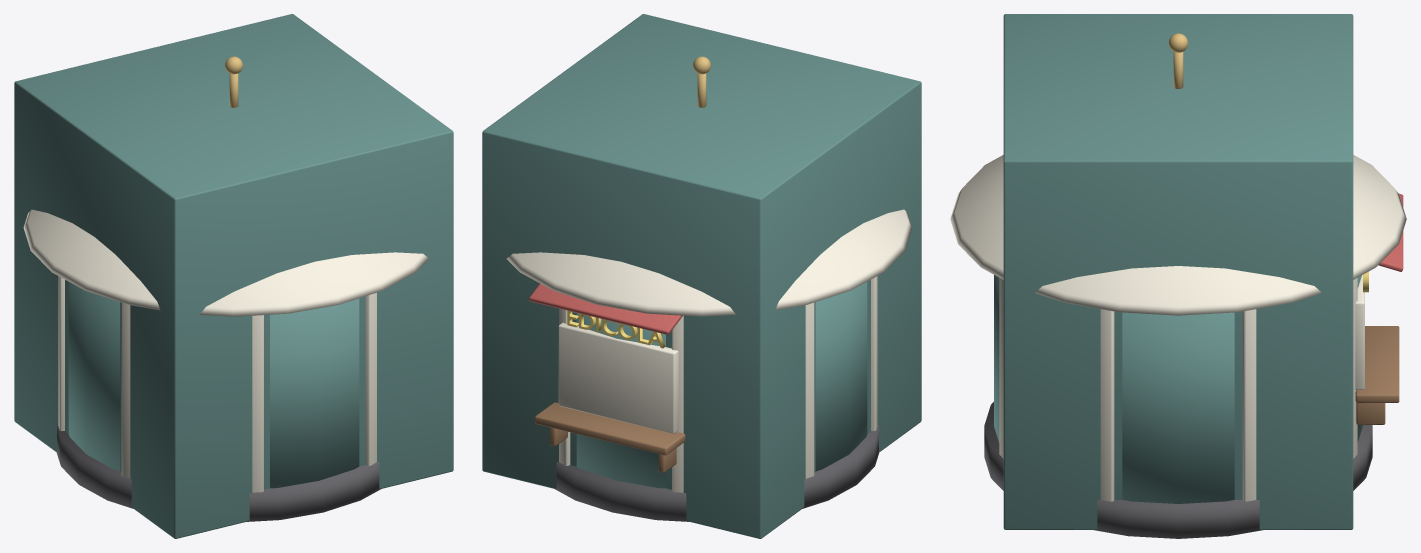
The model's file is chiosco.glb.
3 views of the same model, side by side, from view 1: azimuth 30°, elevation 25°; view 2: azimuth 150°, elevation 25°; view 3: azimuth 270°, elevation 25° (orthographic). The views are drawn at different scales.
Parts seen in each view (by area): view 1: COL_chiosco, corpo, tetto, zoccolo, lesena_4, lesena_3, lesena_5, lesena_6; view 2: COL_chiosco, tetto, corpo, sportello, zoccolo, bancone, tettuccio, lesena_6, lesena_7, lesena_5, txt_edicola; view 3: COL_chiosco, corpo, tetto, zoccolo, lesena_1, lesena_2, bancone, sportello, lesena_3, lesena_0, mensola_1.
Boxes of the visible parts, x1,y1,x2,y2 form: COL_chiosco: (14, 14, 453, 538); corpo: (68, 282, 359, 488); tetto: (23, 209, 429, 316); zoccolo: (56, 425, 380, 521); lesena_4: (252, 315, 263, 492); lesena_3: (365, 292, 376, 465); lesena_5: (121, 302, 130, 478); lesena_6: (58, 276, 64, 430); COL_chiosco: (482, 14, 921, 538); tetto: (506, 209, 912, 316); corpo: (576, 282, 867, 488); sportello: (558, 322, 678, 433); zoccolo: (555, 425, 879, 521); bancone: (535, 402, 685, 455); tettuccio: (529, 283, 682, 334); lesena_6: (805, 302, 814, 478); lesena_7: (672, 315, 683, 492); lesena_5: (871, 276, 877, 430); txt_edicola: (567, 310, 665, 348); COL_chiosco: (1003, 14, 1353, 529); corpo: (994, 275, 1362, 503); tetto: (950, 155, 1406, 315); zoccolo: (984, 402, 1372, 538); lesena_1: (1242, 309, 1256, 501); lesena_2: (1100, 309, 1114, 501); bancone: (1355, 326, 1399, 402); sportello: (1355, 275, 1364, 389); lesena_3: (999, 278, 1003, 458); lesena_0: (1353, 278, 1357, 458); mensola_1: (1356, 402, 1385, 424).
Size of the model in its own units: 4.7 by 4.8 by 4.7.
